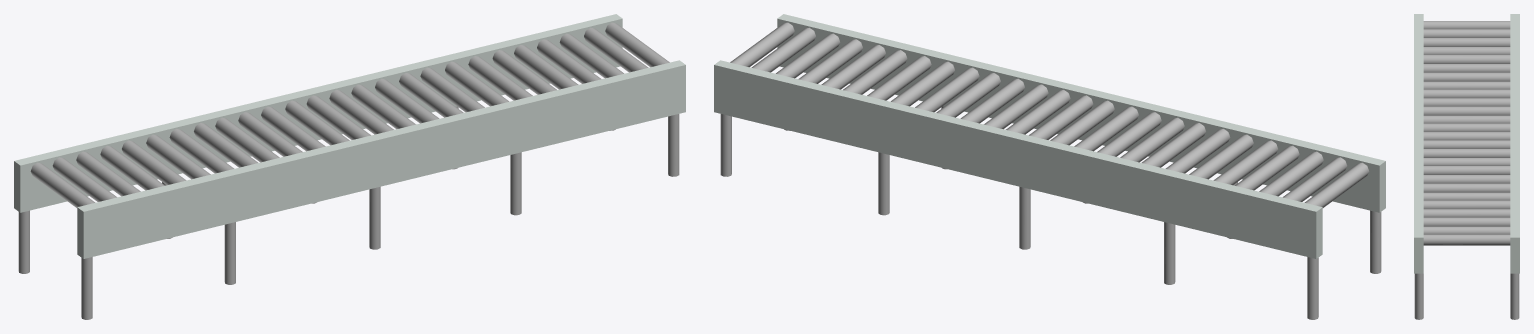
File: SM_Transporter_400.fbx
The picture shows the model from 3 angles, left to right: view 1: azimuth 30°, elevation 25°; view 2: azimuth 150°, elevation 25°; view 3: azimuth 270°, elevation 25°; orthographic projection. The views are drawn at different scales.
Visible parts, largest first — view 1: SM_Transporter_400; view 2: SM_Transporter_400; view 3: SM_Transporter_400.
Part boxes in pixels (box(x1,y1,x2,y2)): SM_Transporter_400: box(14, 14, 685, 319); SM_Transporter_400: box(714, 14, 1385, 319); SM_Transporter_400: box(1414, 14, 1519, 319).
Bounding box in the file's own units: 400 × 69.72 × 80.
